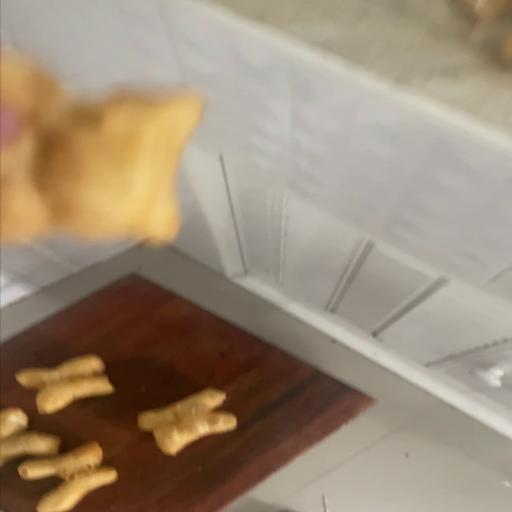street_golden_good: (16, 355, 115, 413)
